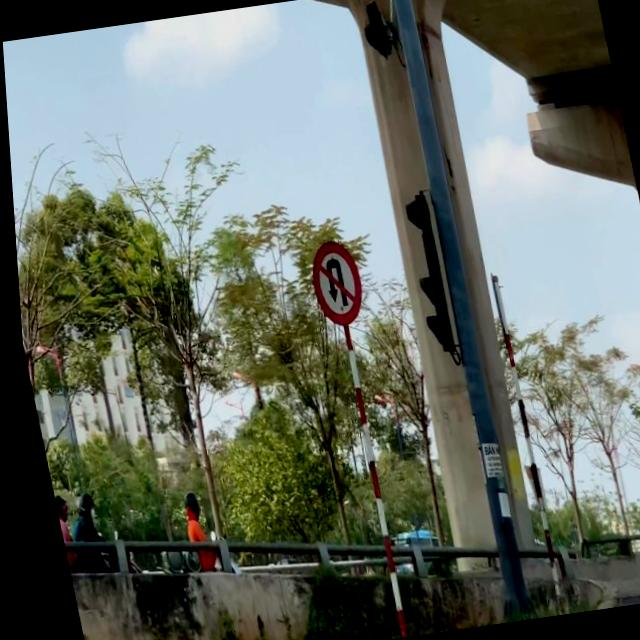Cam quay dau xe: (301, 235, 368, 331)
